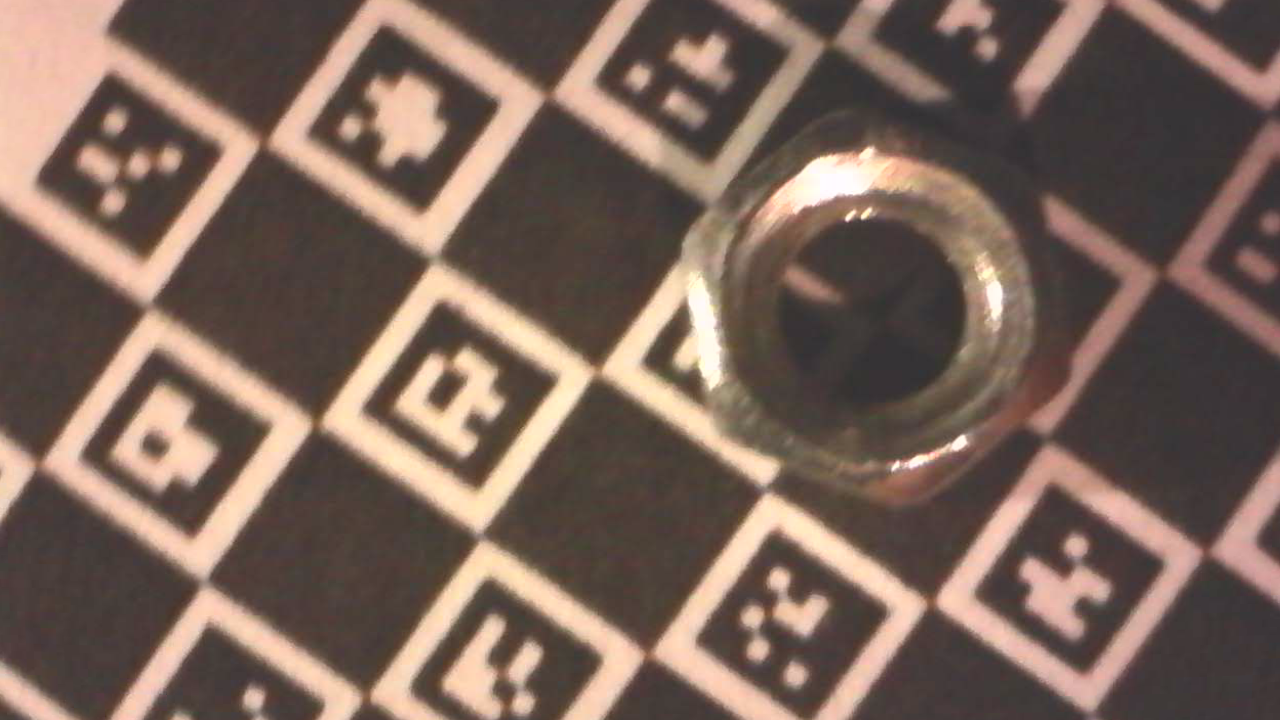Bolt: (673, 104, 1076, 519)
